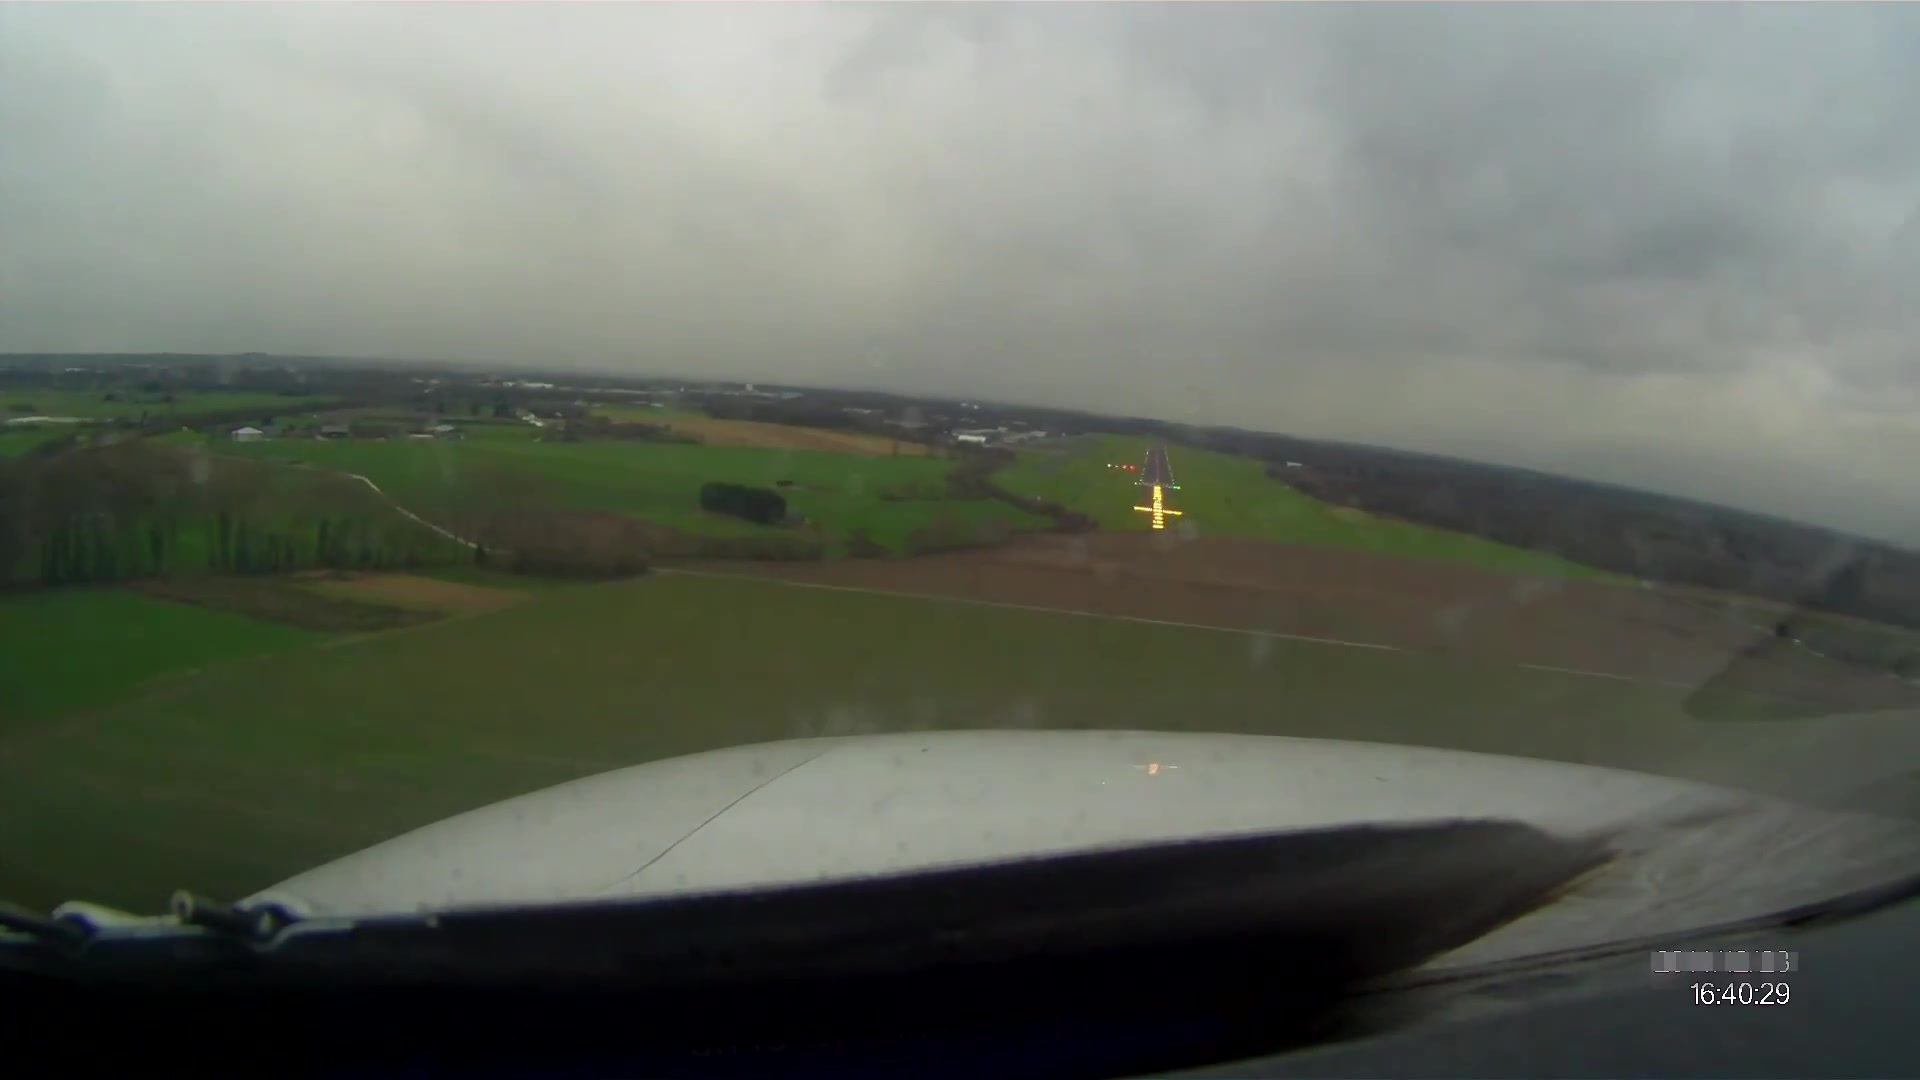runway: (1135, 446, 1179, 489)
